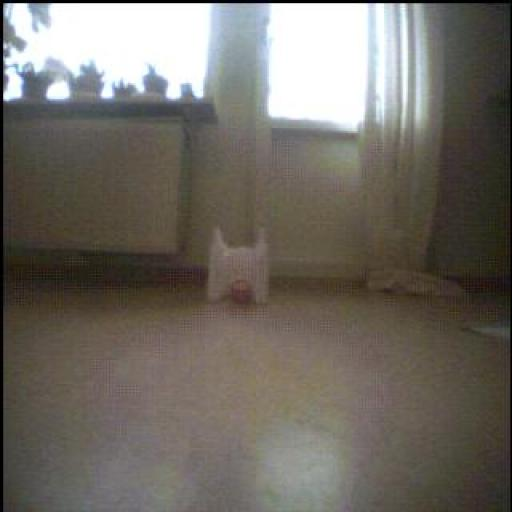Basket: (229, 278, 253, 307)
